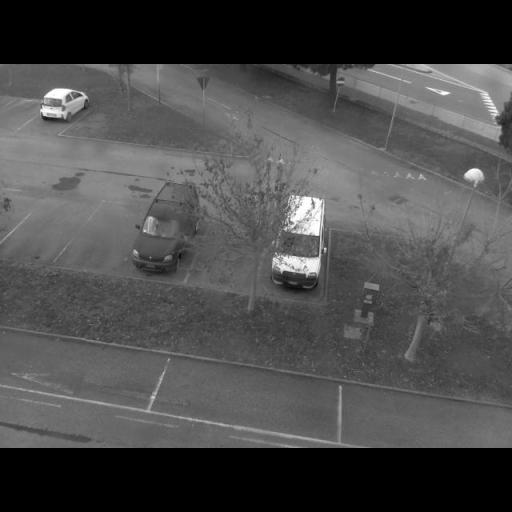busy: (127, 184, 214, 277), (267, 253, 328, 291), (35, 89, 91, 122)
free: (26, 341, 132, 392), (194, 372, 302, 422), (362, 401, 460, 447), (208, 211, 258, 290), (93, 203, 136, 275), (24, 203, 75, 261), (2, 106, 33, 122)
